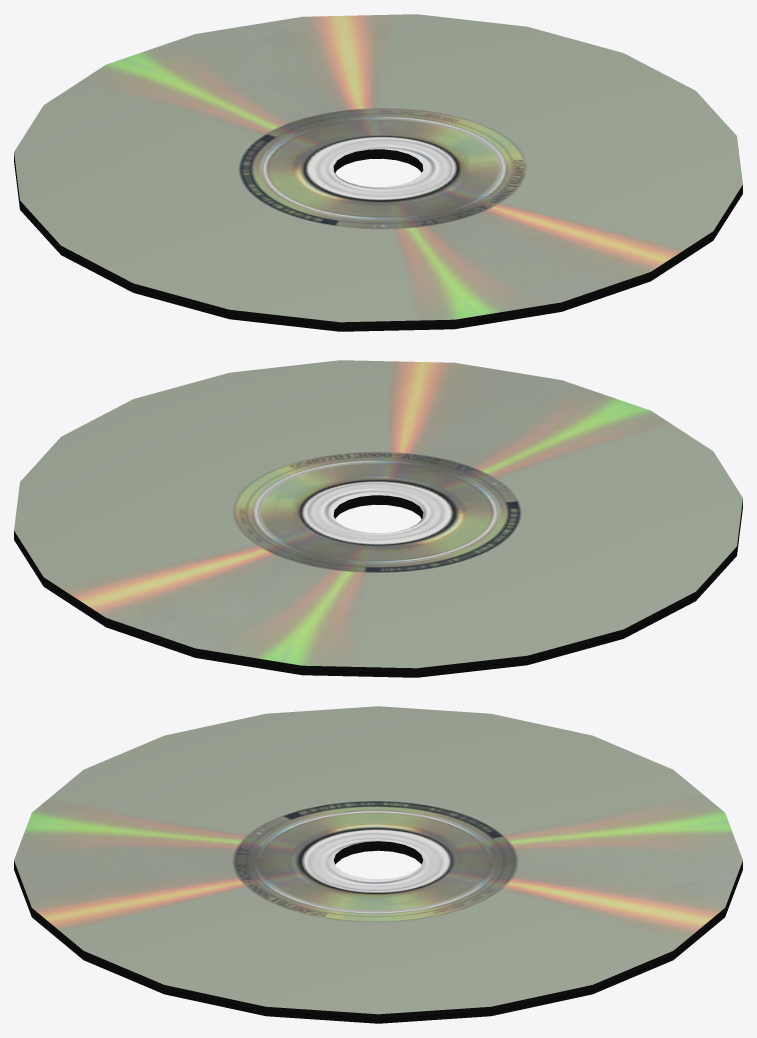
File: dvd.fbx
3 views of the same model, one above another, from view 1: azimuth 30°, elevation 25°; view 2: azimuth 150°, elevation 25°; view 3: azimuth 270°, elevation 25° (orthographic).
Visible parts, largest first — view 1: dvd; view 2: dvd; view 3: dvd.
Boxes of the visible parts, box(x1,y1,x2,y2) form: dvd: box(14, 14, 742, 331); dvd: box(14, 360, 742, 677); dvd: box(14, 706, 742, 1023).
Size of the model in its own units: 13.05 by 0.1871 by 13.05.
